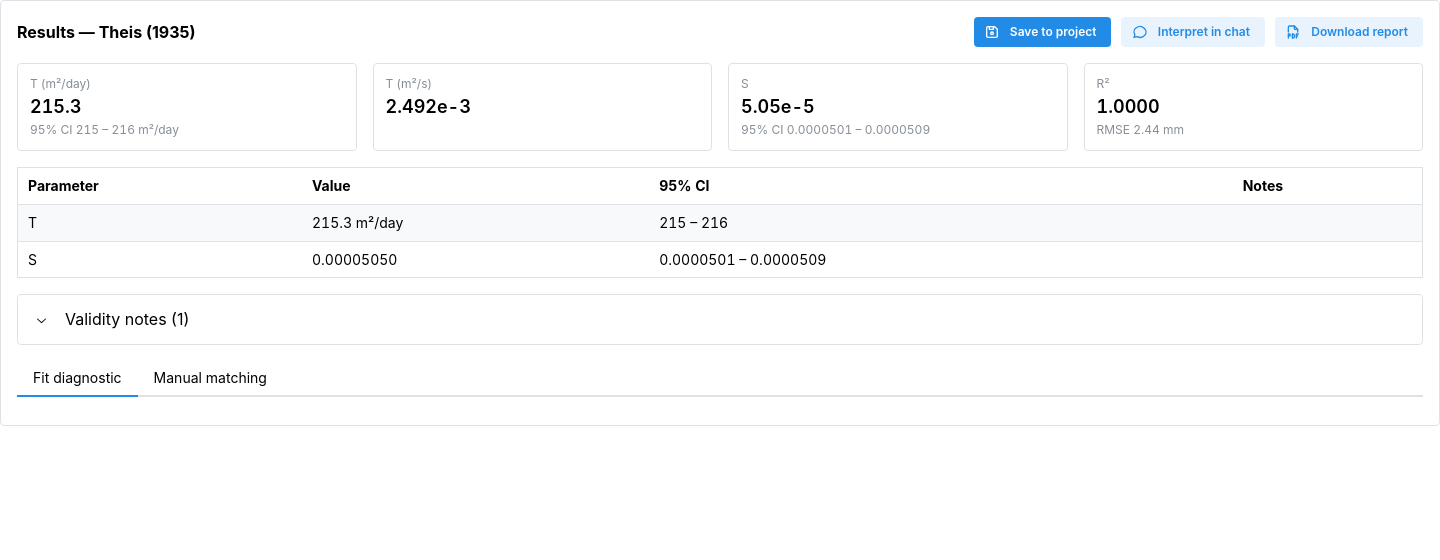
Test: the results › draws the manual curve at the fitted values first
Click the tab "Manual matching" at (210, 379), box [138,361,283,397]
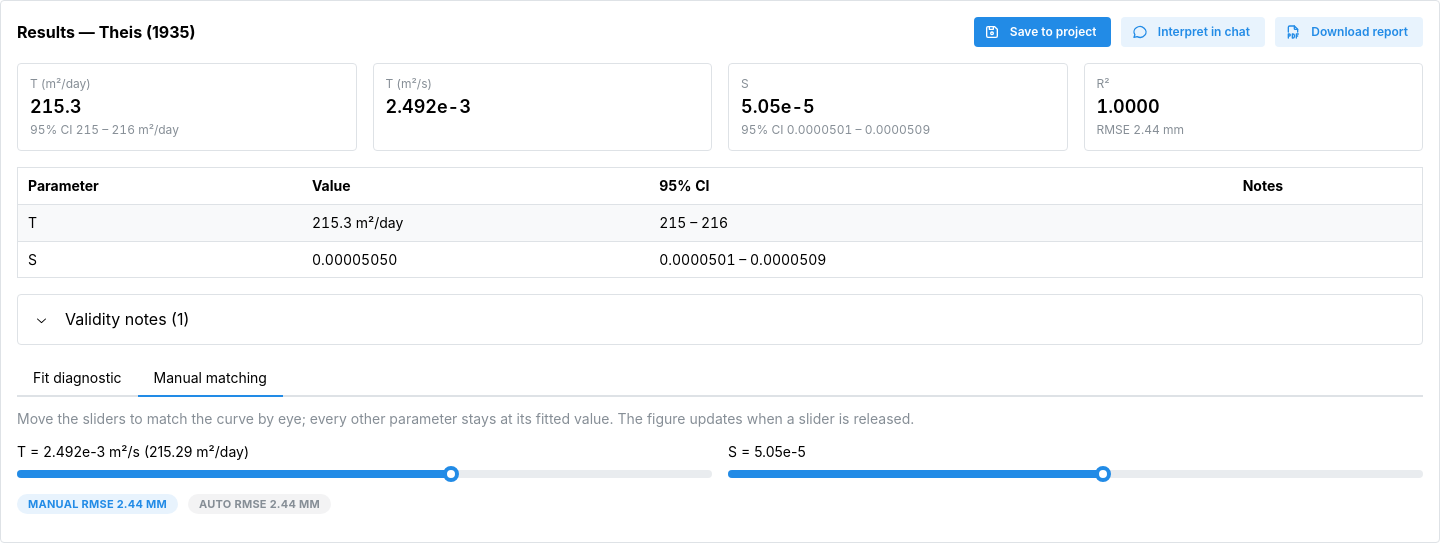
Check: the text "Manual RMSE 2.44 mm" is shown, box [28,495,167,513]
